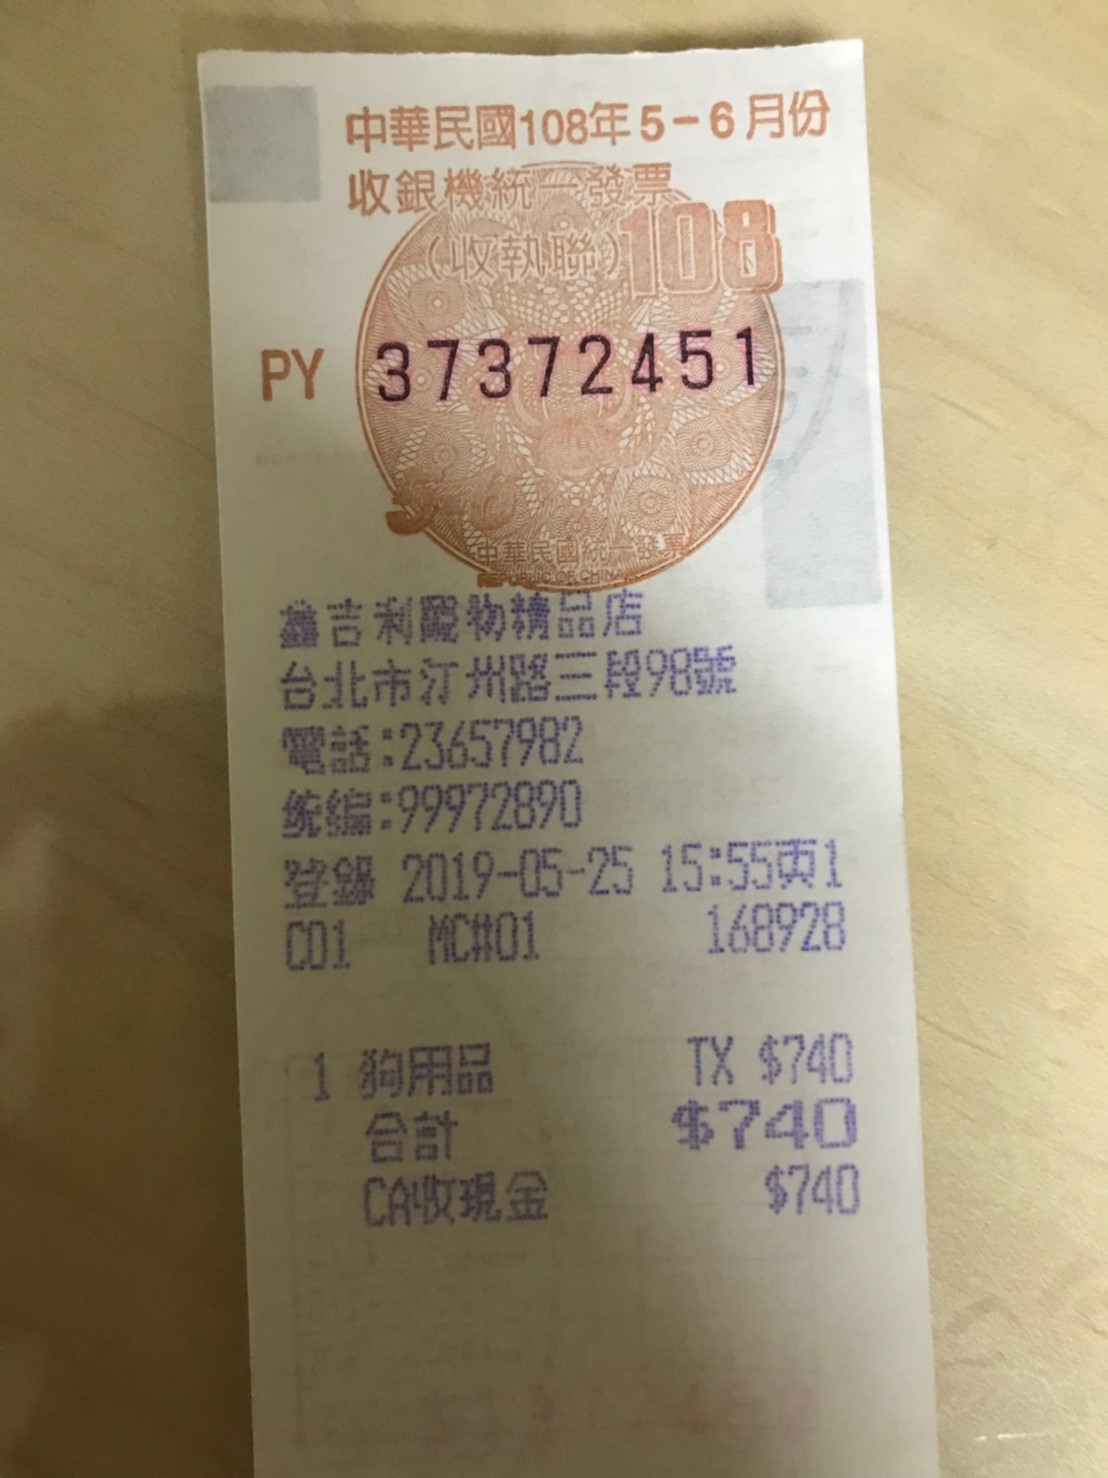Date_Old: (521, 85, 834, 149)
Number_Old: (370, 324, 765, 405)
